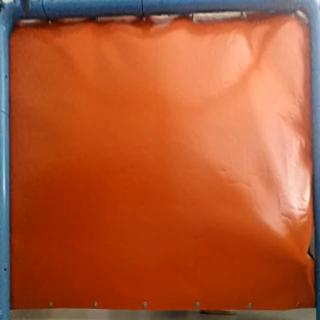Hit-hRxx: (297, 254, 311, 272)
